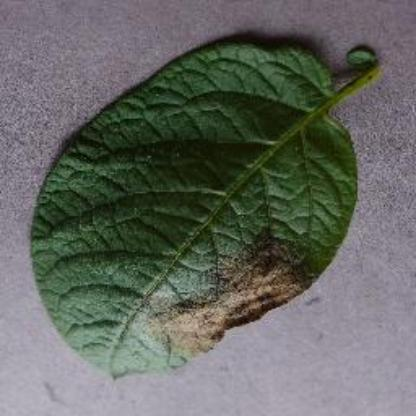Late-Blight: (29, 34, 385, 380)
